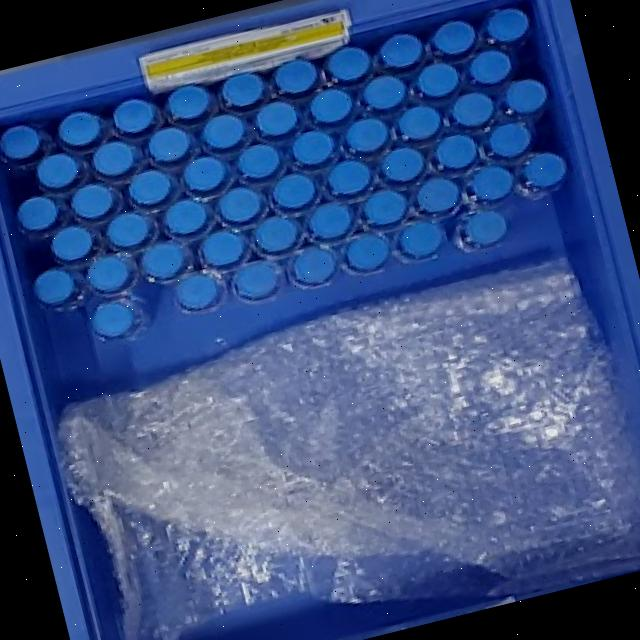vials: (233, 261, 279, 300), (141, 241, 186, 279), (217, 187, 263, 224), (253, 216, 299, 253), (346, 234, 390, 272), (292, 247, 336, 285), (92, 300, 136, 338), (201, 113, 246, 150), (71, 183, 116, 220), (128, 169, 173, 206), (183, 156, 228, 193), (362, 189, 407, 226), (308, 203, 353, 240), (200, 230, 245, 267), (86, 255, 131, 292), (486, 122, 532, 158), (274, 58, 318, 95), (255, 100, 299, 137), (50, 225, 94, 262), (58, 111, 103, 147), (309, 88, 354, 124), (362, 75, 407, 111), (106, 212, 151, 248), (522, 152, 567, 188), (175, 274, 220, 310), (399, 221, 442, 258), (33, 268, 76, 305), (112, 98, 156, 134), (166, 84, 210, 120), (327, 46, 371, 82), (36, 153, 80, 189), (468, 49, 512, 85), (164, 199, 208, 235), (272, 173, 316, 209), (327, 160, 371, 196), (416, 177, 460, 213), (380, 147, 425, 182), (462, 210, 507, 245), (485, 7, 528, 43), (148, 127, 191, 163), (416, 62, 459, 98), (291, 130, 334, 166), (470, 165, 513, 201), (432, 20, 476, 55), (92, 141, 136, 176), (397, 105, 441, 140), (238, 143, 280, 179), (505, 78, 547, 114), (435, 134, 477, 170), (380, 33, 423, 68), (345, 118, 388, 153), (222, 72, 264, 107), (17, 196, 59, 231), (451, 92, 493, 127), (0, 125, 40, 160)
